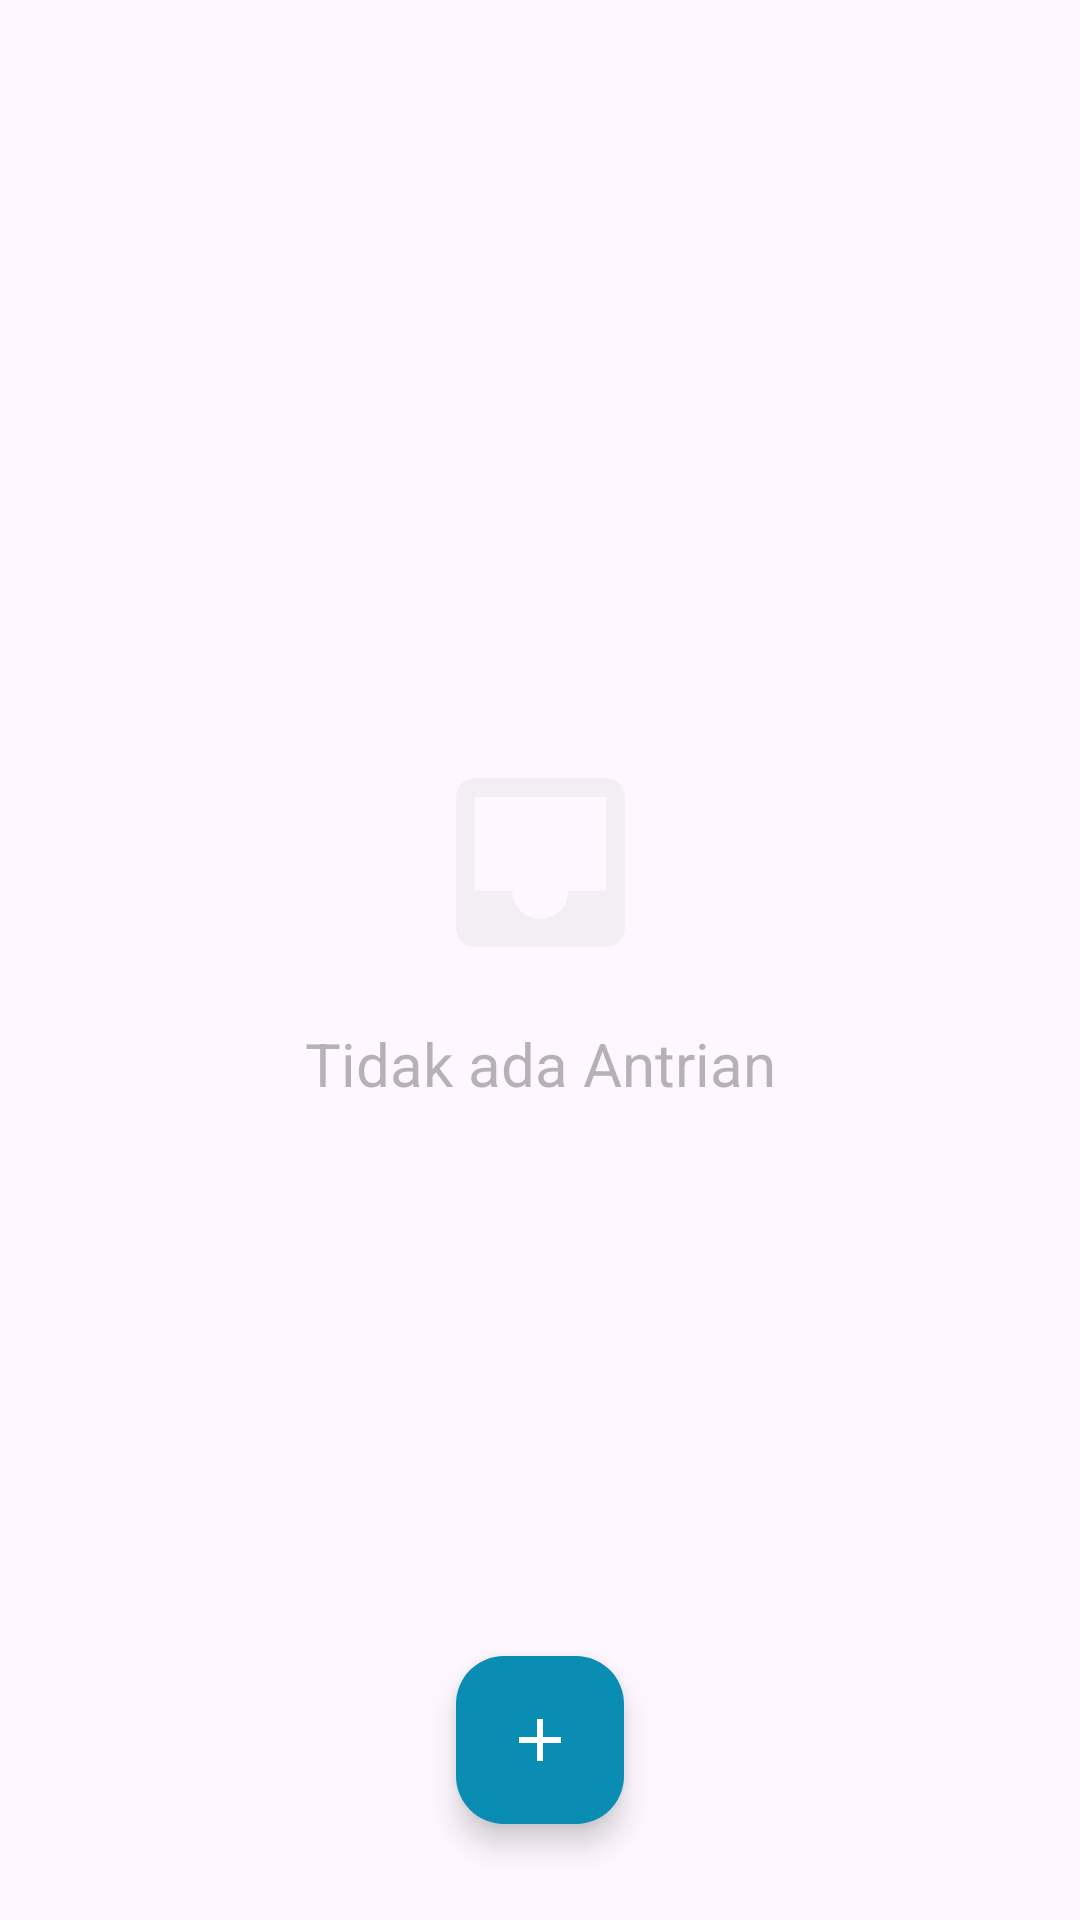

Icon click points for this 1080x1920 phone screenshot, format (x=x, y=y):
Buat Antrian: (x=540, y=1740)
